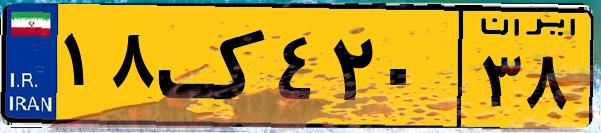0: (385, 28, 445, 110)
1: (57, 26, 110, 100)
2: (330, 28, 385, 110)
3: (475, 38, 525, 113)
4: (270, 28, 330, 110)
8: (525, 38, 570, 115), (110, 28, 158, 98)
ک: (158, 12, 270, 120)
